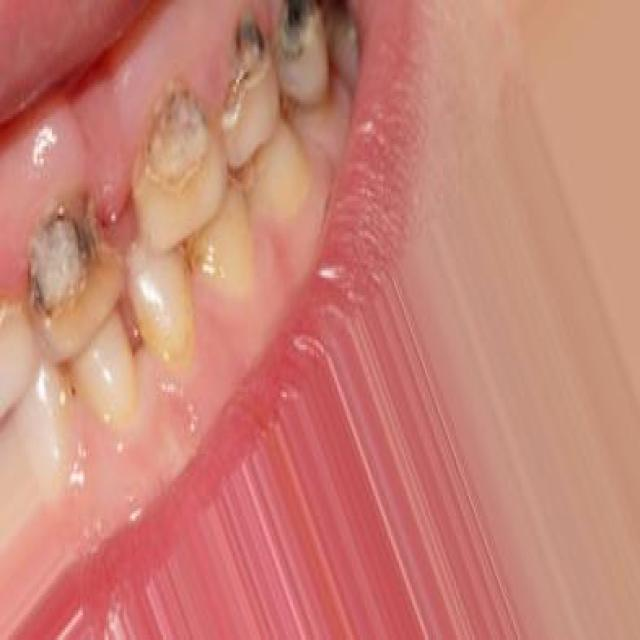caries: (127, 75, 229, 236), (21, 198, 116, 339), (216, 10, 280, 165), (277, 0, 334, 104)
